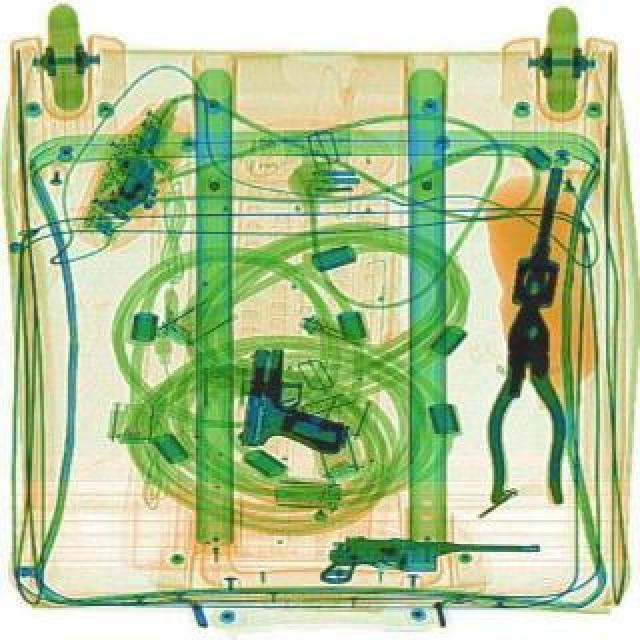gun: (236, 344, 356, 456), (316, 532, 534, 592)
wrench: (484, 304, 566, 504)
